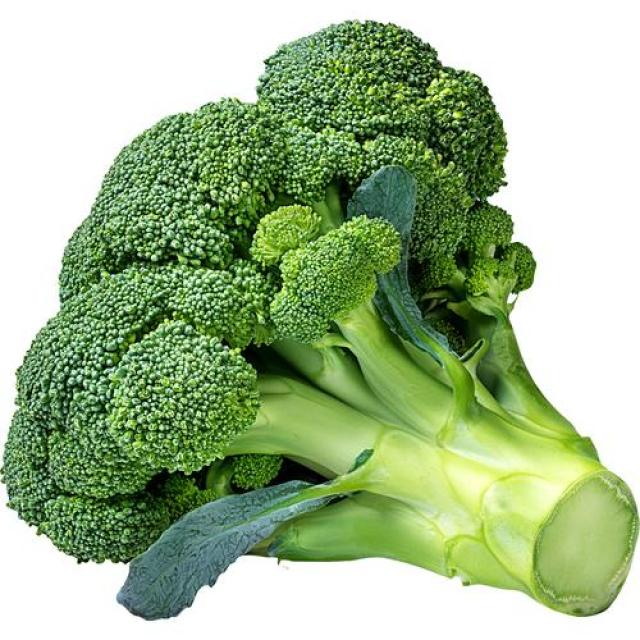Broccoli: (1, 16, 634, 616)
